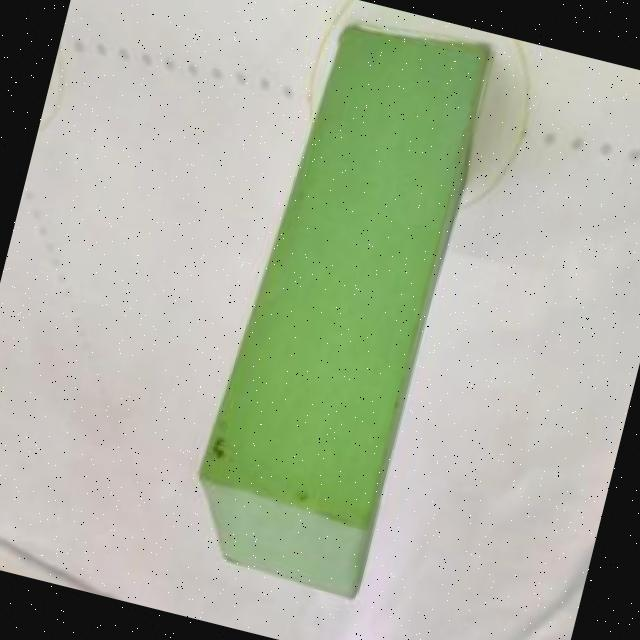greenbox: (175, 3, 494, 600)
